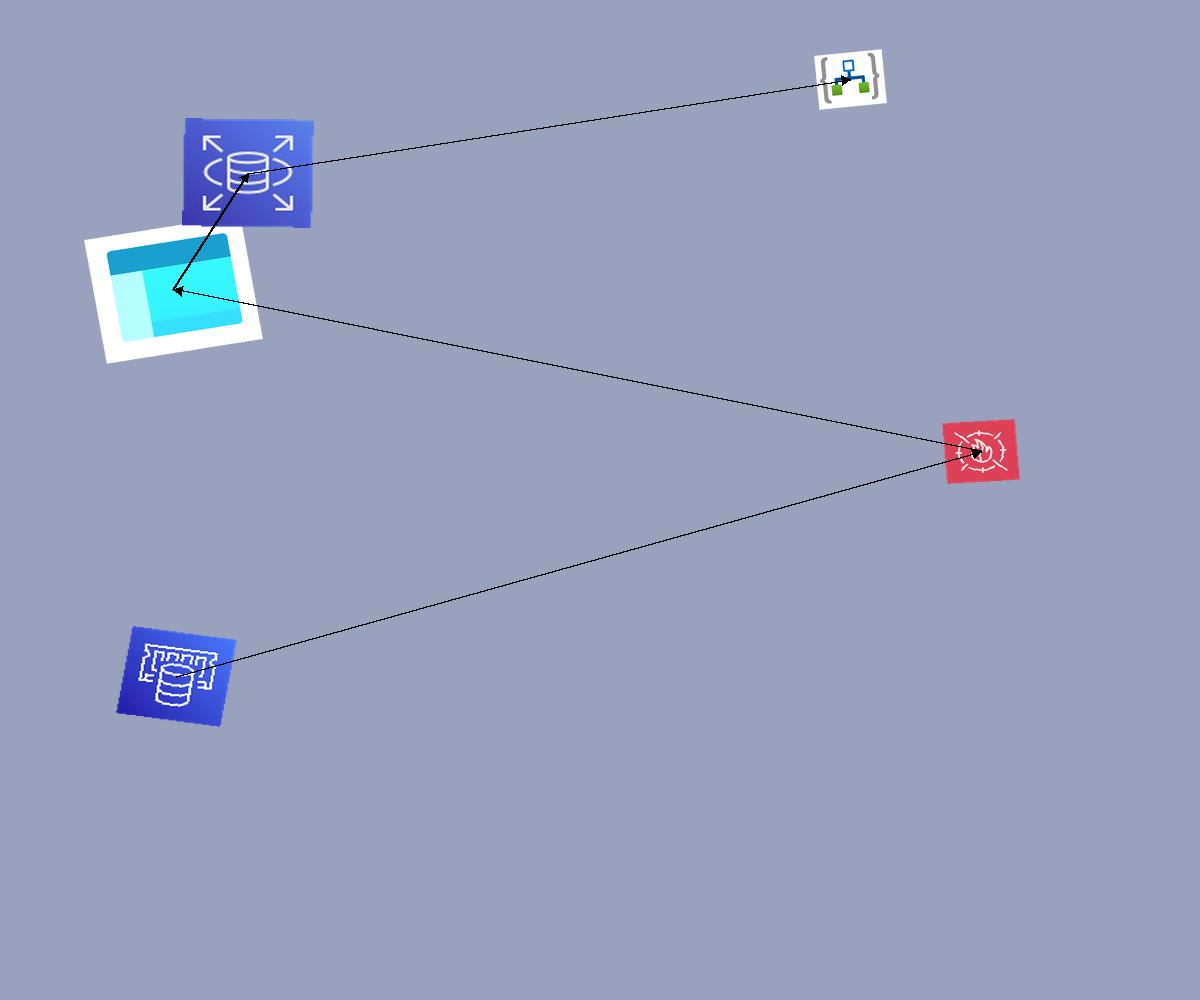AWS-ElastiCache: (116, 626, 237, 727)
AWS-RDS: (182, 118, 314, 228)
AWS-WAF: (942, 419, 1020, 484)
Azure_integration-204-Logic-Apps: (814, 49, 887, 110)
Azure_management-portal: (84, 215, 263, 364)
